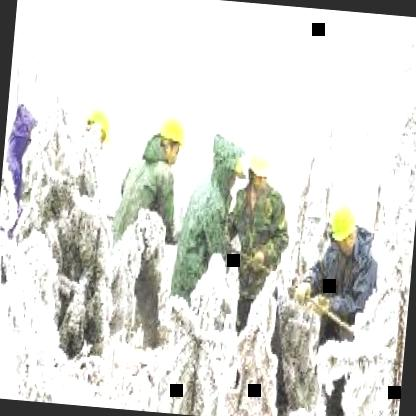helmet: (240, 137, 280, 195), (325, 193, 359, 257), (153, 108, 189, 167), (82, 101, 112, 150)
